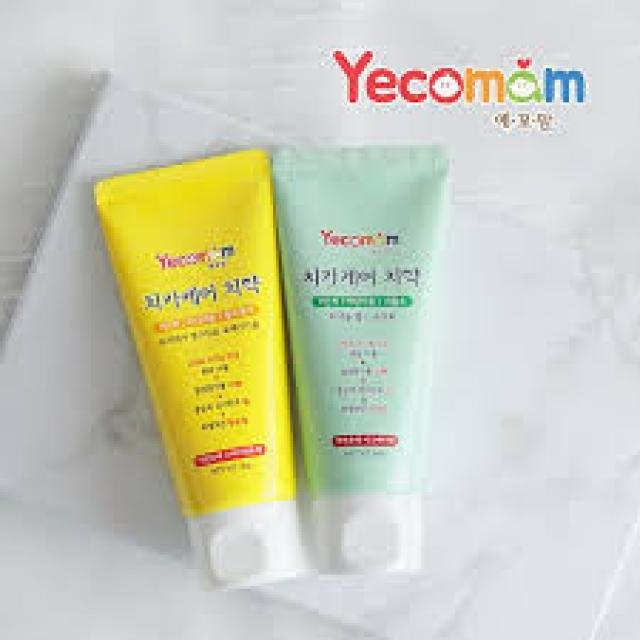toothpaste: (72, 137, 298, 581), (274, 137, 470, 566)
